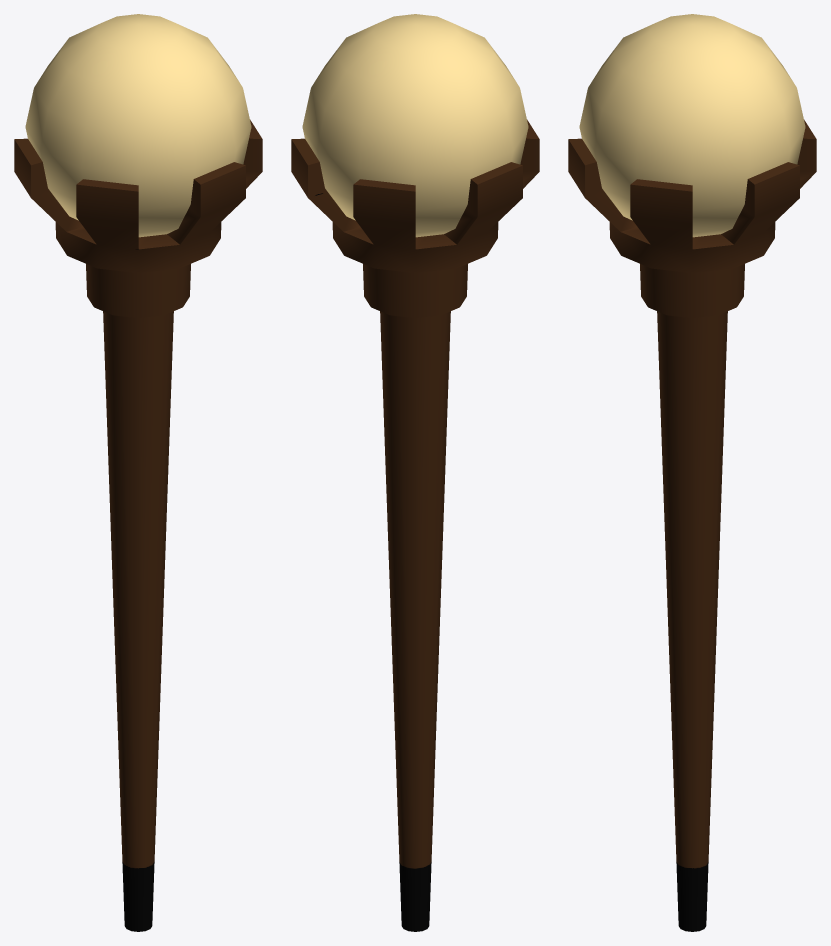
Rendered from Baston_magnate.fbx.
The picture shows the model from 3 angles, left to right: view 1: azimuth 30°, elevation 25°; view 2: azimuth 150°, elevation 25°; view 3: azimuth 270°, elevation 25°; orthographic projection.
Visible parts, largest first — view 1: Palo, Bola; view 2: Palo, Bola; view 3: Palo, Bola.
Boxes of the visible parts, x1,y1,x2,y2 form: Palo: [14, 119, 262, 931]; Bola: [25, 14, 251, 237]; Palo: [291, 119, 539, 931]; Bola: [302, 14, 528, 237]; Palo: [568, 119, 816, 931]; Bola: [579, 14, 805, 237].
Bounding box in the file's own units: 196 × 787 × 196.
2 materials, 1 textured.
